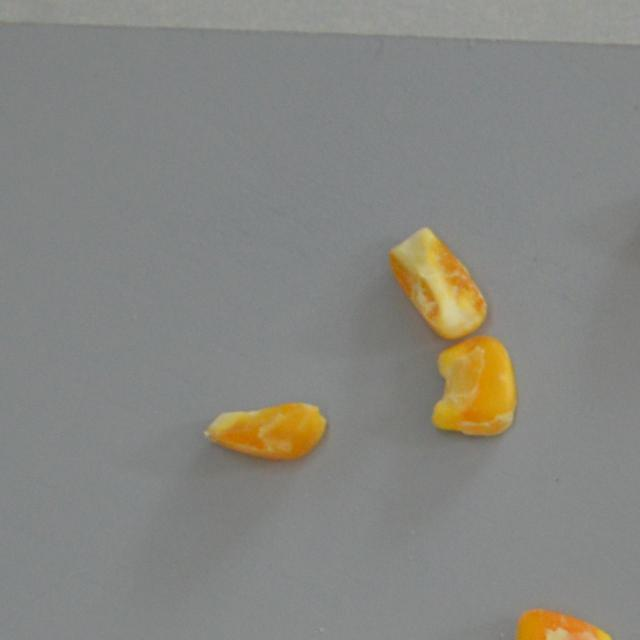dañado: (430, 334, 520, 443)
pelicula: (384, 224, 488, 342), (204, 396, 330, 464), (514, 605, 616, 640)
